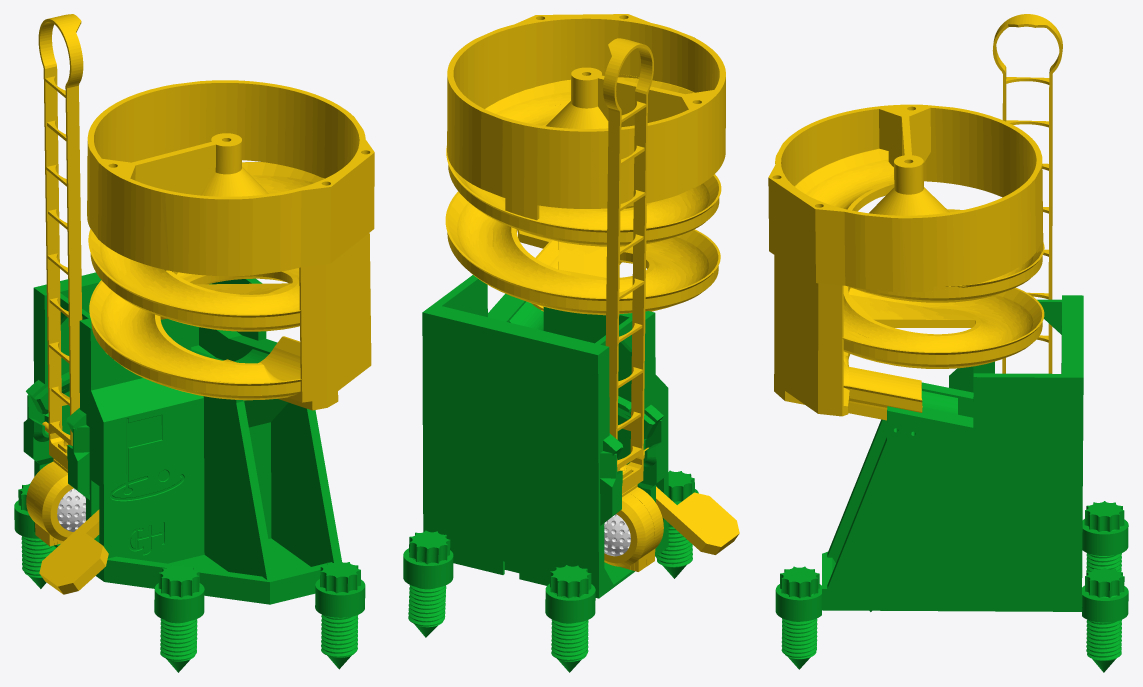
File: dispenser-custom-ao.glb
3 renders of one model, left to right at view 1: azimuth 30°, elevation 25°; view 2: azimuth 150°, elevation 25°; view 3: azimuth 270°, elevation 25°, orthographic. The views are drawn at different scales.
Parts seen in each view (by area): view 1: Secondary_mesh, Primary_mesh, Ball_mesh; view 2: Secondary_mesh, Primary_mesh, Ball_mesh; view 3: Secondary_mesh, Primary_mesh.
Boxes of the visible parts, <box> form: Secondary_mesh: <box>26,14,374,594</box>; Primary_mesh: <box>14,272,365,672</box>; Ball_mesh: <box>57,488,85,531</box>; Secondary_mesh: <box>445,14,739,571</box>; Primary_mesh: <box>403,275,698,672</box>; Ball_mesh: <box>604,514,630,556</box>; Secondary_mesh: <box>768,14,1062,420</box>; Primary_mesh: <box>775,295,1128,672</box>.
Bounding box in the file's own units: 108 × 220 × 124.
